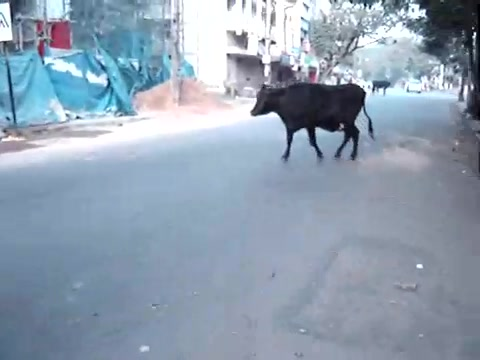cow: (251, 83, 375, 164)
